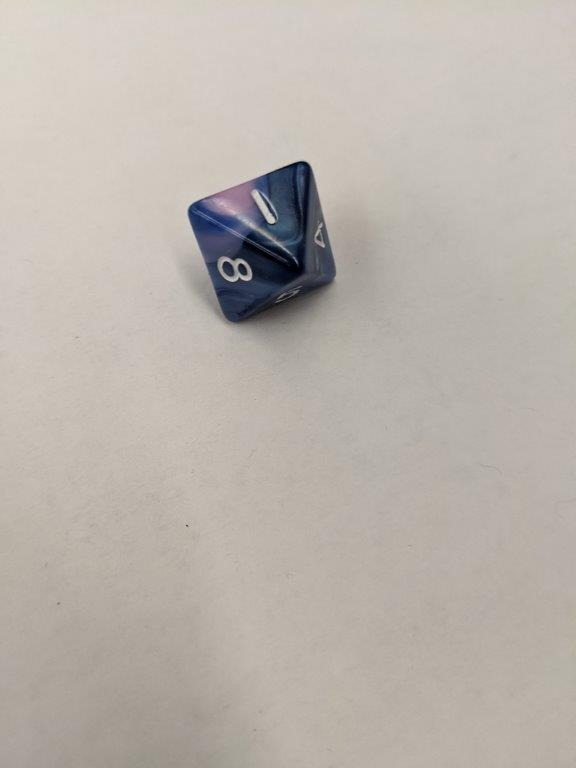d8-1: (187, 159, 340, 322)
